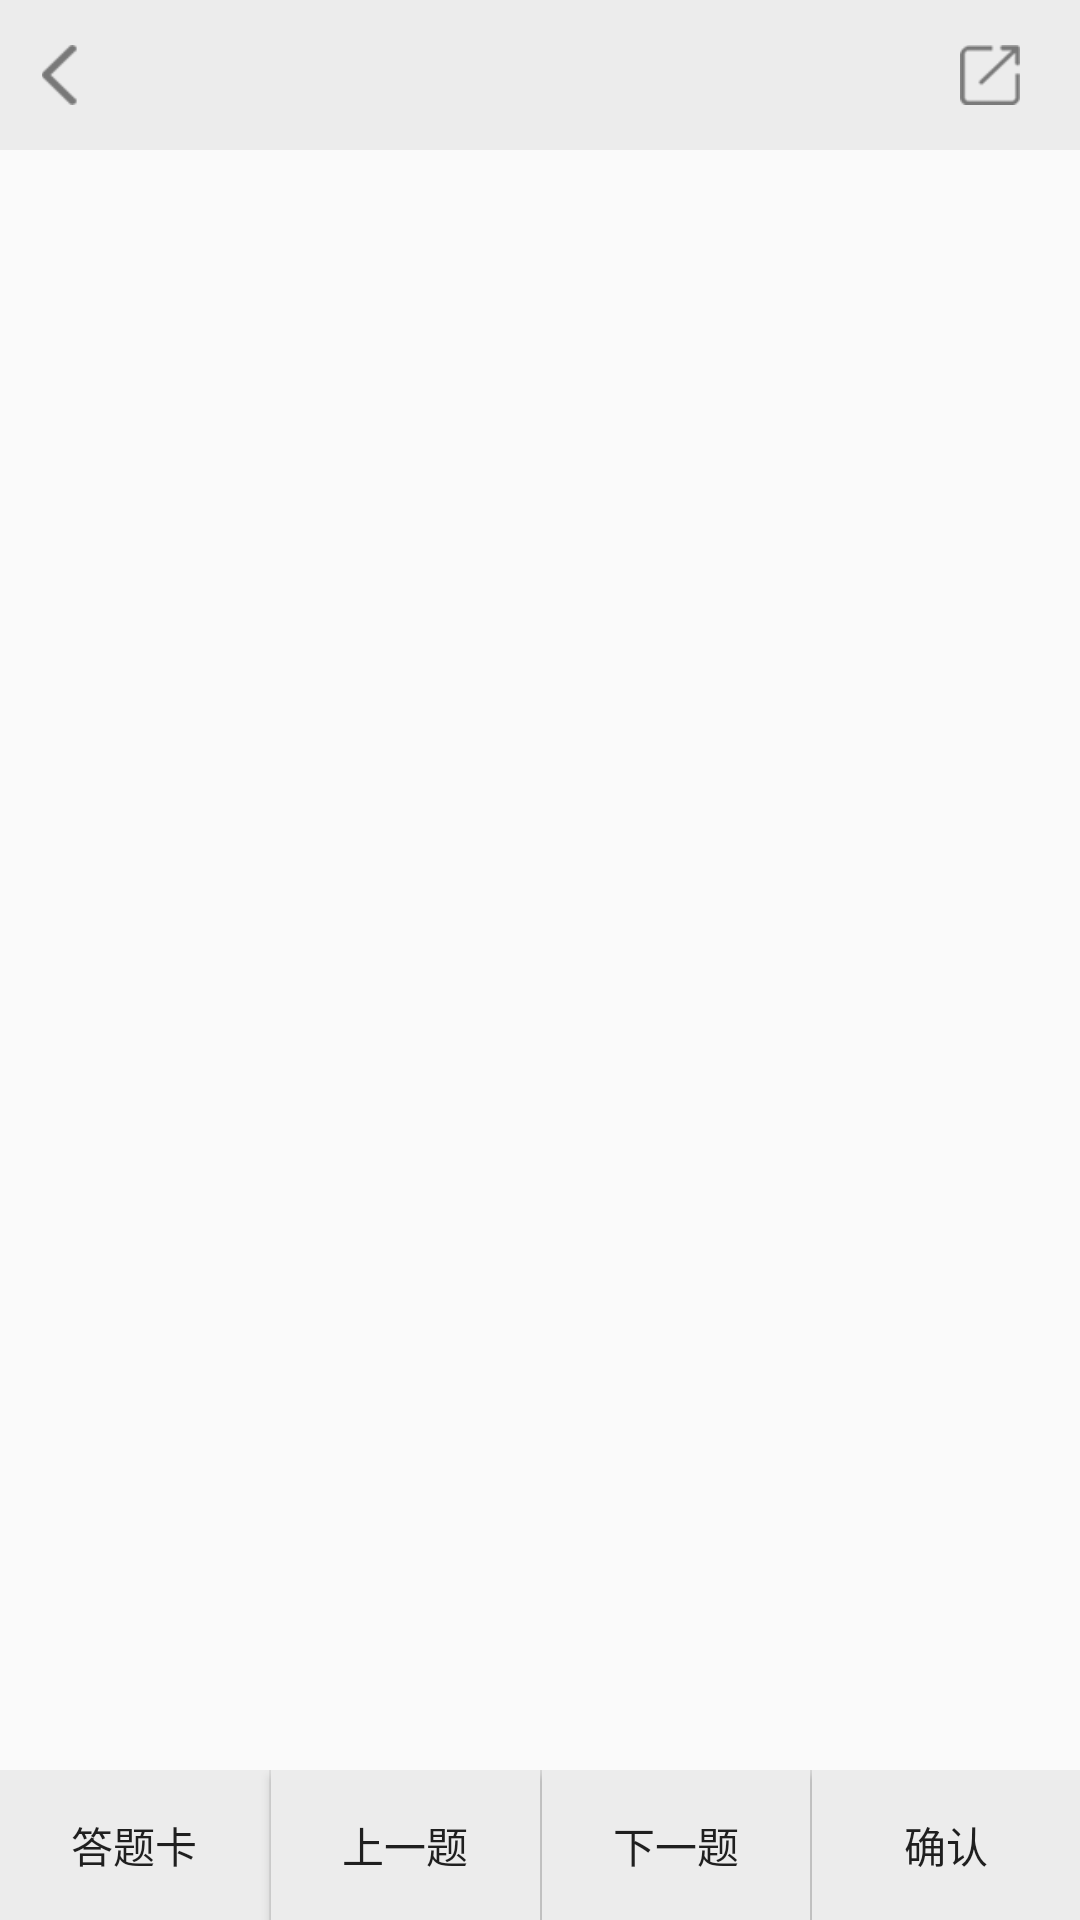

Icons on this 1080x1920 Android screen, each with the point to tap as [x,y]:
answer return highlight: [59,75]
answer share highlight: [990,75]
